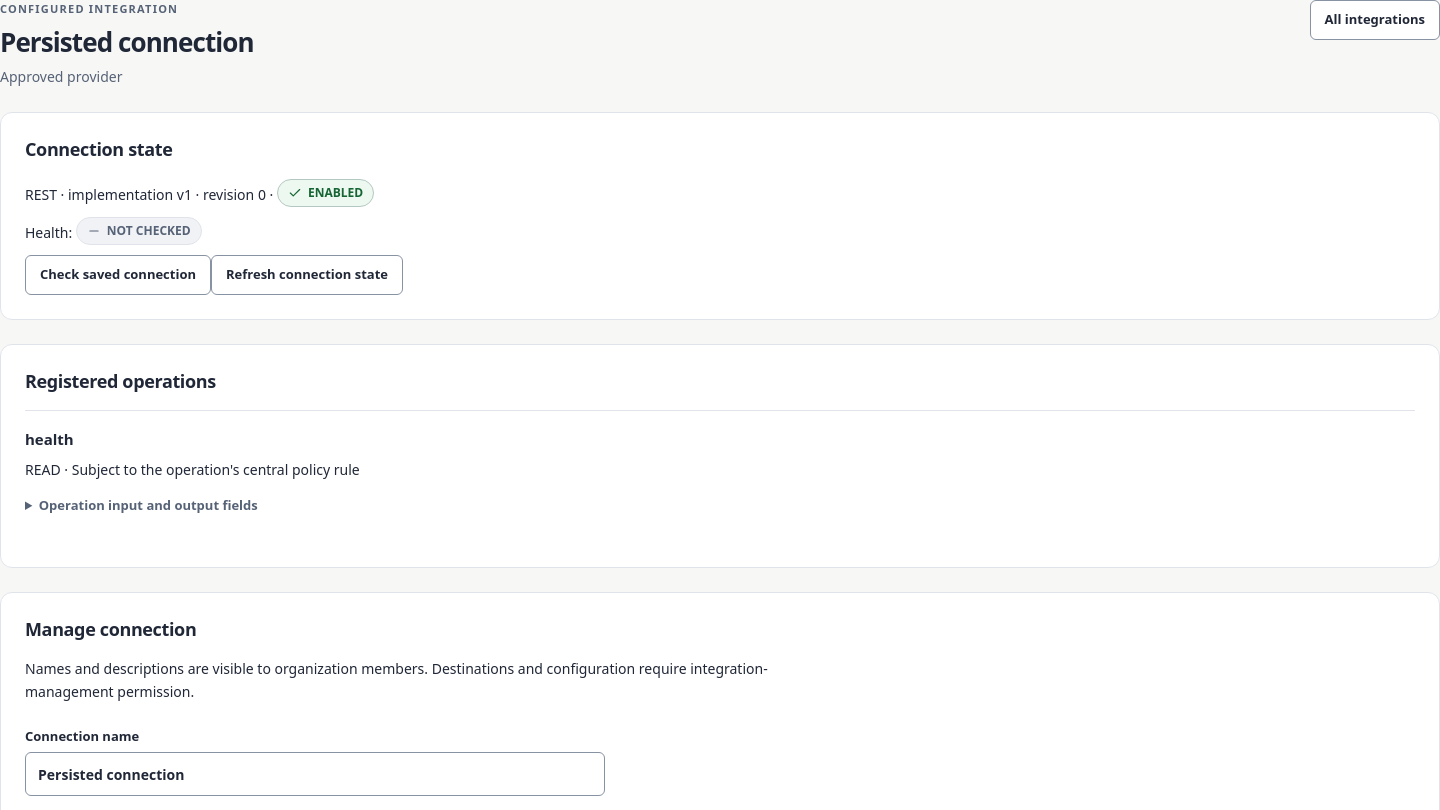
Test: shows saved-check results from the server without fabricated availability
Click the button "Check saved connection": [118, 275] box [25, 255, 211, 295]
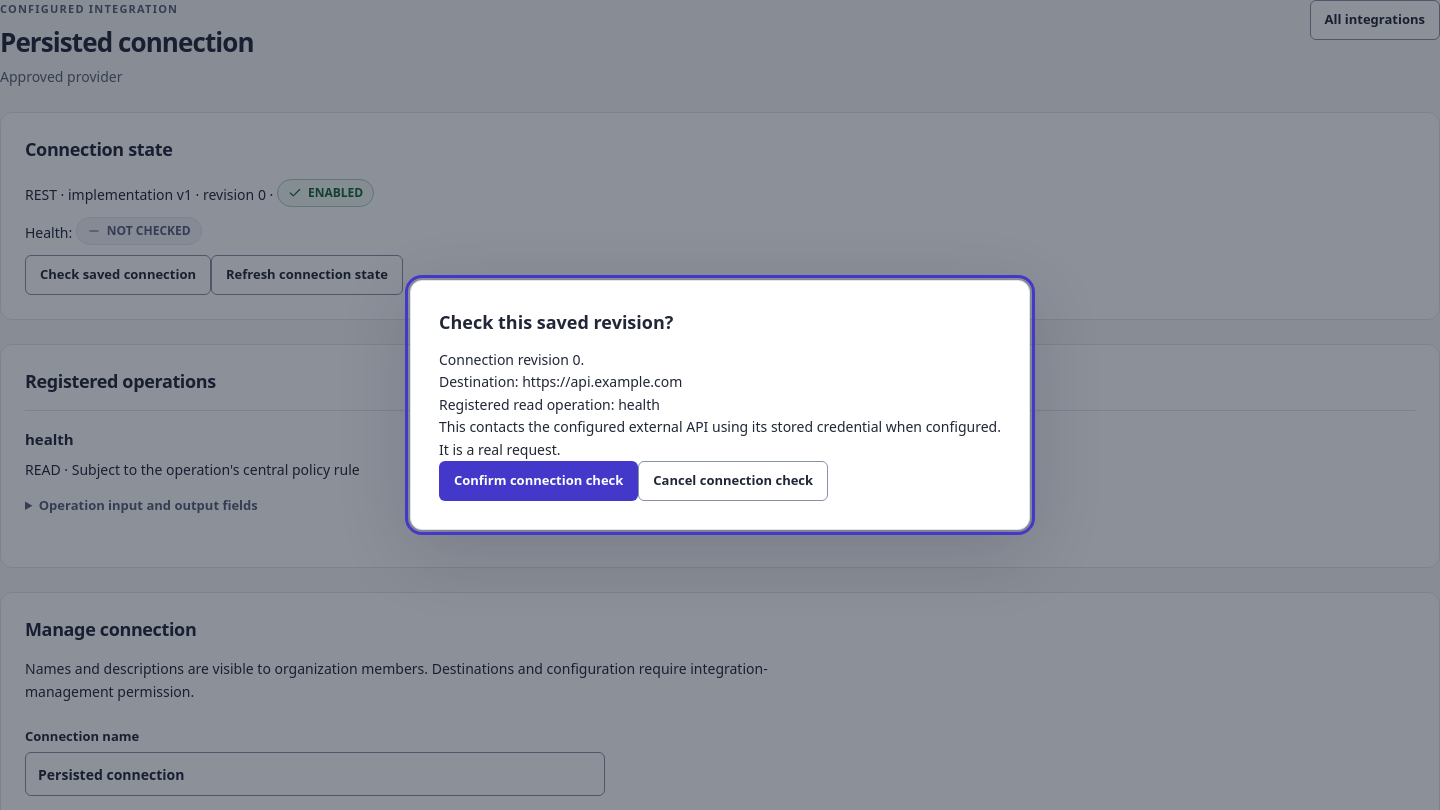
expect the dialog named "Confirm saved connection check" shows "https://api.example.com": met, box [522, 372, 682, 392]
expect the dialog named "Confirm saved connection check" shows "Registered read operation: health": met, box [410, 280, 1030, 530]
Click the button "Confirm connection check": [539, 481] box [439, 461, 638, 501]
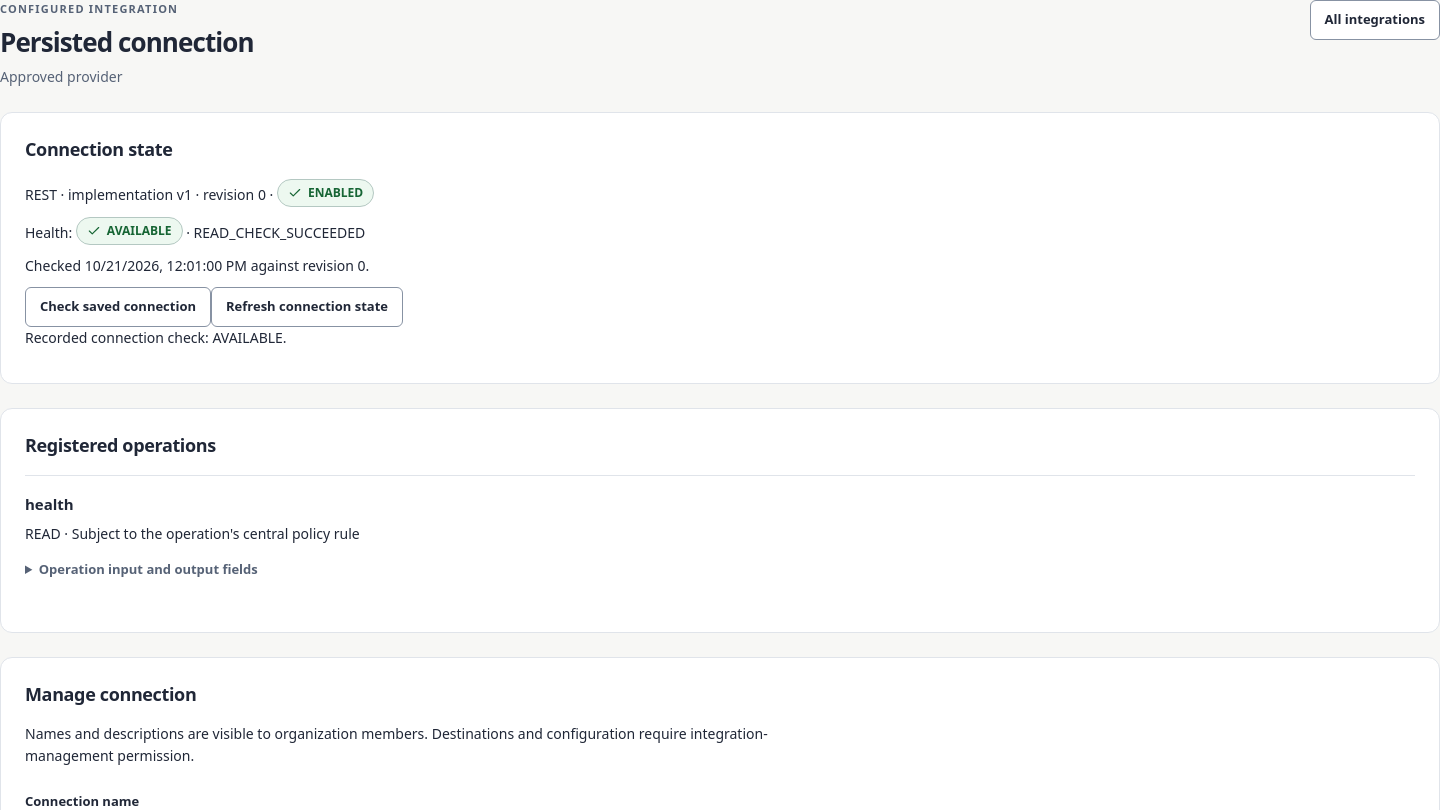
expect the text "Recorded connection check: AVAILABLE." is shown: met, box [25, 328, 287, 347]
